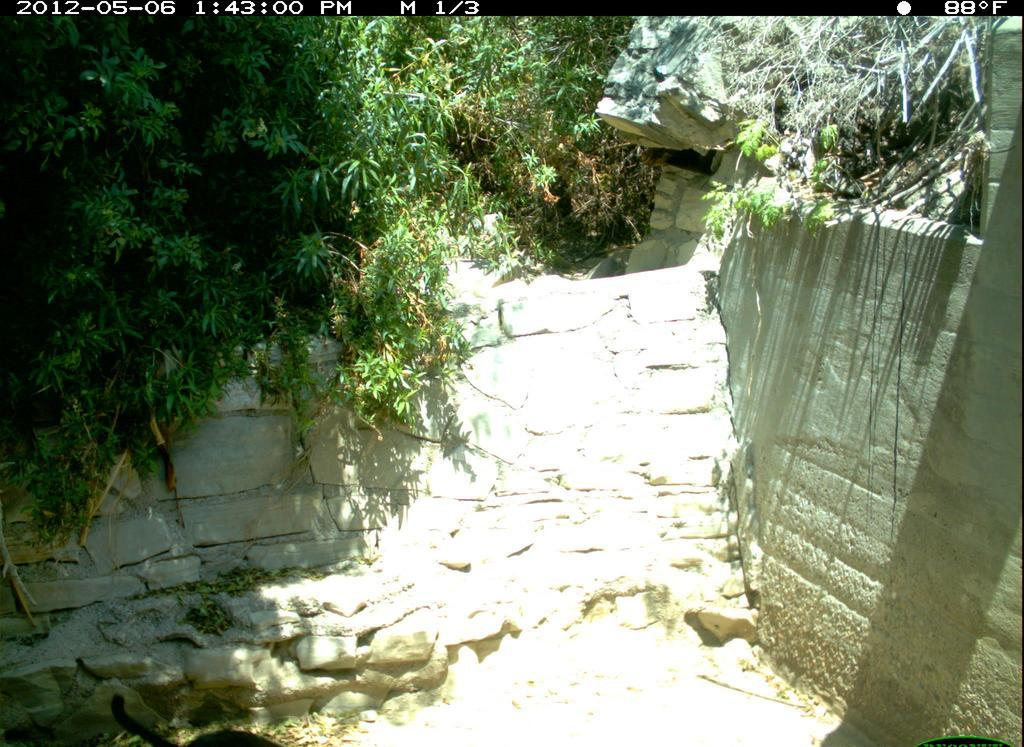cat: (102, 687, 300, 747)
